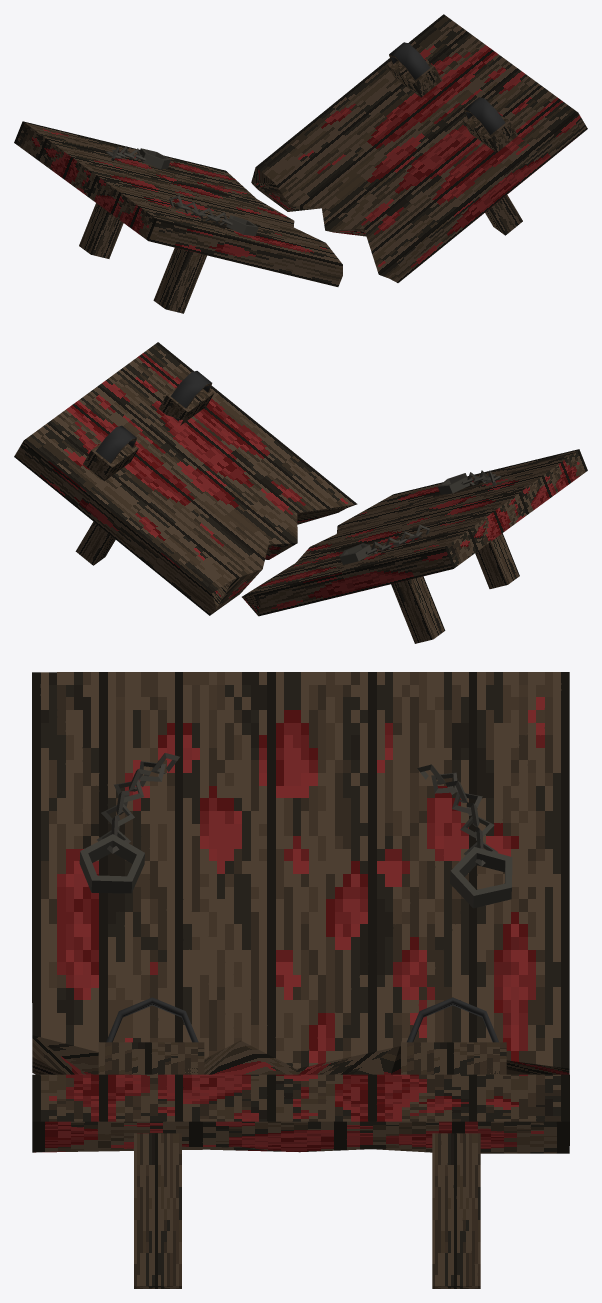
Rendered from mesadetorturarota.glb.
The picture shows the model from 3 angles, top to bottom: view 1: azimuth 30°, elevation 25°; view 2: azimuth 150°, elevation 25°; view 3: azimuth 270°, elevation 25°; orthographic projection. The views are drawn at different scales.
Visible parts, largest first — view 1: mesatortura3-col; view 2: mesatortura3-col; view 3: mesatortura3-col.
Boxes of the visible parts, x1,y1,x2,y2 form: mesatortura3-col: (14,14,587,313); mesatortura3-col: (14,342,587,643); mesatortura3-col: (32,672,569,1288).
Bounding box in the file's own units: 2.06 × 0.6181 × 1.09.
4 materials, 2 textured.
